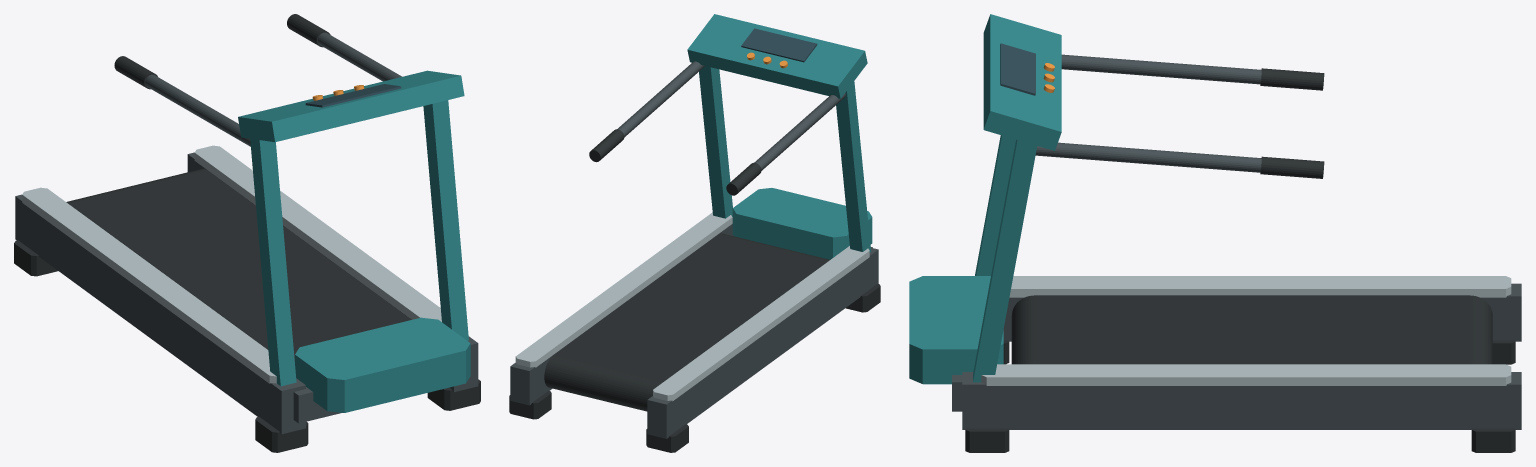
3 renders of one model, left to right at view 1: azimuth 30°, elevation 25°; view 2: azimuth 150°, elevation 25°; view 3: azimuth 270°, elevation 25°, orthographic. The views are drawn at different scales.
Parts seen in each view (by area): view 1: Belt_ContinuousThickClosedLoop, Frame_Left_LongSide, Cover_FrontMotorStyle, Step_Left_RaisedStrip, Step_Right_RaisedStrip, Console_TiltedBody, Post_Left_Inclined, Post_Right_Inclined, Handrail_Left_OpenCantilever, Handrail_Right_OpenCantilever, Foot_Left_Front, Foot_Right_Front (+6 smaller); view 2: Belt_ContinuousThickClosedLoop, Frame_Left_LongSide, Console_TiltedBody, Cover_FrontMotorStyle, Step_Right_RaisedStrip, Step_Left_RaisedStrip, Post_Left_Inclined, Post_Right_Inclined, Frame_Right_LongSide, Console_BlankScreen, Handrail_Left_OpenCantilever, Handrail_Right_OpenCantilever (+5 smaller); view 3: Belt_ContinuousThickClosedLoop, Frame_Right_LongSide, Step_Right_RaisedStrip, Step_Left_RaisedStrip, Cover_FrontMotorStyle, Console_TiltedBody, Post_Right_Inclined, Handrail_Right_OpenCantilever, Handrail_Left_OpenCantilever, Post_Left_Inclined, Frame_Left_LongSide, Console_BlankScreen (+4 smaller).
Part boxes in pixels (x1,y1,x2,y2): Belt_ContinuousThickClosedLoop: (66, 168, 411, 361); Frame_Left_LongSide: (15, 194, 305, 434); Cover_FrontMotorStyle: (295, 317, 470, 412); Step_Left_RaisedStrip: (22, 187, 276, 383); Step_Right_RaisedStrip: (194, 145, 441, 321); Console_TiltedBody: (238, 70, 464, 142); Post_Left_Inclined: (250, 138, 296, 386); Post_Right_Inclined: (423, 100, 468, 340); Handrail_Left_OpenCantilever: (145, 74, 250, 146); Handrail_Right_OpenCantilever: (318, 32, 401, 81); Foot_Left_Front: (255, 417, 308, 452); Foot_Right_Front: (427, 379, 480, 410); Belt_ContinuousThickClosedLoop: (544, 233, 829, 411); Frame_Left_LongSide: (647, 247, 878, 438); Console_TiltedBody: (687, 14, 867, 98); Cover_FrontMotorStyle: (732, 188, 872, 259); Step_Right_RaisedStrip: (515, 212, 732, 367); Step_Left_RaisedStrip: (653, 246, 869, 401); Post_Left_Inclined: (836, 81, 871, 252); Post_Right_Inclined: (699, 66, 732, 218); Frame_Right_LongSide: (510, 224, 733, 405); Console_BlankScreen: (741, 28, 817, 62); Handrail_Left_OpenCantilever: (754, 93, 845, 170); Handrail_Right_OpenCantilever: (617, 61, 704, 137); Belt_ContinuousThickClosedLoop: (1011, 295, 1492, 364); Frame_Right_LongSide: (962, 372, 1521, 429); Step_Right_RaisedStrip: (981, 364, 1511, 385); Step_Left_RaisedStrip: (1009, 276, 1511, 297); Cover_FrontMotorStyle: (909, 276, 1003, 384); Console_TiltedBody: (983, 14, 1061, 150); Post_Right_Inclined: (973, 139, 1037, 382); Handrail_Right_OpenCantilever: (1035, 142, 1261, 172); Handrail_Left_OpenCantilever: (1061, 54, 1261, 84); Post_Left_Inclined: (975, 135, 1015, 276); Frame_Left_LongSide: (1003, 283, 1521, 341); Console_BlankScreen: (1000, 43, 1035, 95).
Bounding box in the file's own units: 0.86 × 1.26 × 2.08.
